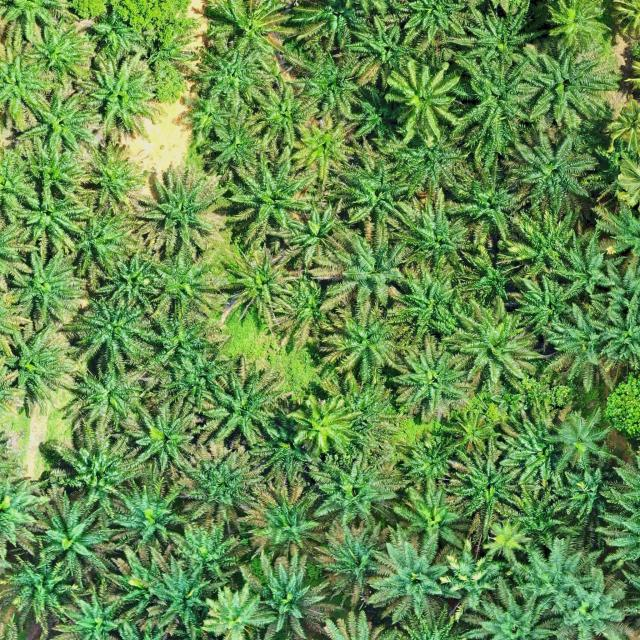Tree: (428, 294, 544, 397), (362, 520, 464, 629), (230, 542, 342, 640), (124, 169, 232, 263), (450, 45, 541, 156), (500, 121, 604, 217), (305, 219, 414, 309), (36, 419, 146, 507), (220, 148, 314, 246), (515, 38, 616, 128), (69, 47, 171, 136), (304, 450, 412, 532), (506, 531, 606, 617), (27, 490, 121, 580), (540, 299, 630, 392), (59, 290, 161, 372), (385, 254, 476, 344), (308, 520, 396, 606), (195, 368, 286, 450), (0, 538, 80, 631), (447, 440, 526, 534), (9, 82, 105, 159), (145, 551, 228, 640), (172, 443, 266, 521), (389, 334, 473, 421), (494, 404, 576, 493), (1, 182, 98, 257), (383, 59, 464, 148), (105, 471, 191, 553), (3, 248, 89, 330), (493, 205, 579, 286), (236, 475, 324, 554), (393, 184, 476, 267), (330, 149, 414, 231), (319, 302, 399, 386), (499, 476, 584, 555), (66, 355, 151, 433), (300, 48, 385, 125), (387, 472, 467, 552), (0, 322, 71, 410), (69, 204, 146, 283), (438, 542, 515, 620), (451, 166, 528, 244), (140, 308, 232, 373), (284, 112, 360, 190), (540, 400, 620, 474), (456, 3, 547, 68), (341, 13, 416, 90), (204, 0, 300, 60), (168, 512, 252, 580), (242, 80, 316, 154), (23, 9, 96, 83), (559, 227, 629, 304), (386, 132, 470, 196), (267, 272, 333, 353), (511, 274, 589, 341), (98, 539, 172, 609), (450, 234, 520, 308), (223, 248, 294, 320), (190, 46, 273, 106), (134, 402, 201, 476), (76, 147, 147, 215), (17, 134, 86, 202), (241, 426, 317, 487), (198, 113, 268, 177), (91, 246, 164, 307), (289, 393, 359, 456), (395, 424, 466, 486), (542, 0, 608, 52), (180, 90, 238, 148), (604, 371, 640, 442), (594, 202, 640, 255), (446, 408, 492, 450), (605, 99, 640, 152), (613, 0, 640, 34)
